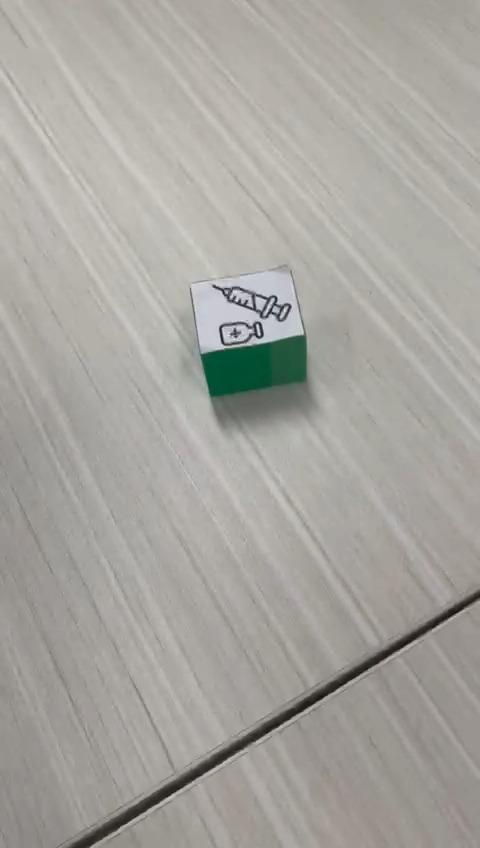antiseptic cream: (188, 262, 308, 398)
